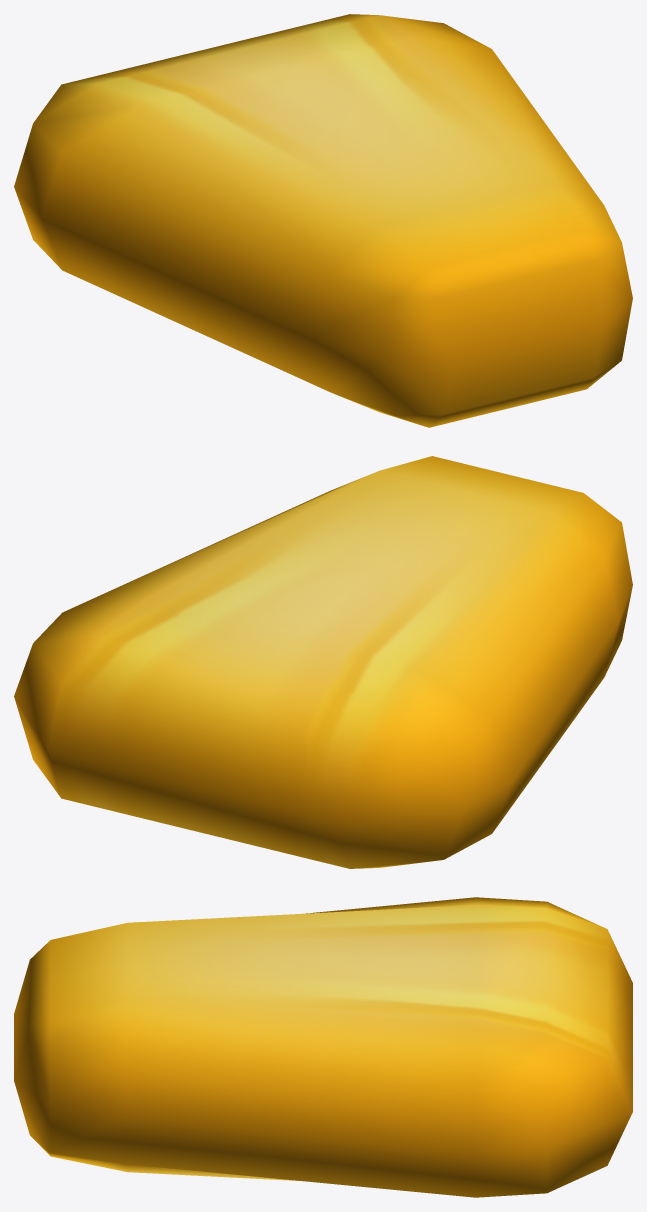
Rendered from Pineapple.fbx.
3 renders of one model, top to bottom at view 1: azimuth 30°, elevation 25°; view 2: azimuth 150°, elevation 25°; view 3: azimuth 270°, elevation 25°, orthographic. The views are drawn at different scales.
Visible parts, largest first — view 1: Pineapple; view 2: Pineapple; view 3: Pineapple.
Part boxes in pixels (box(x1,y1,x2,y2)): Pineapple: box(14, 14, 632, 427); Pineapple: box(14, 456, 632, 868); Pineapple: box(14, 897, 632, 1197).
Size of the model in its own units: 13.26 by 5.03 by 16.41.
